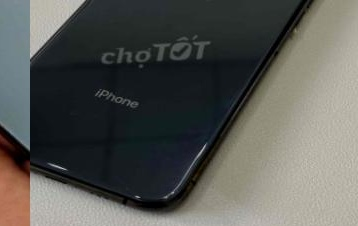scratch: (66, 103, 109, 128), (117, 178, 137, 191)
